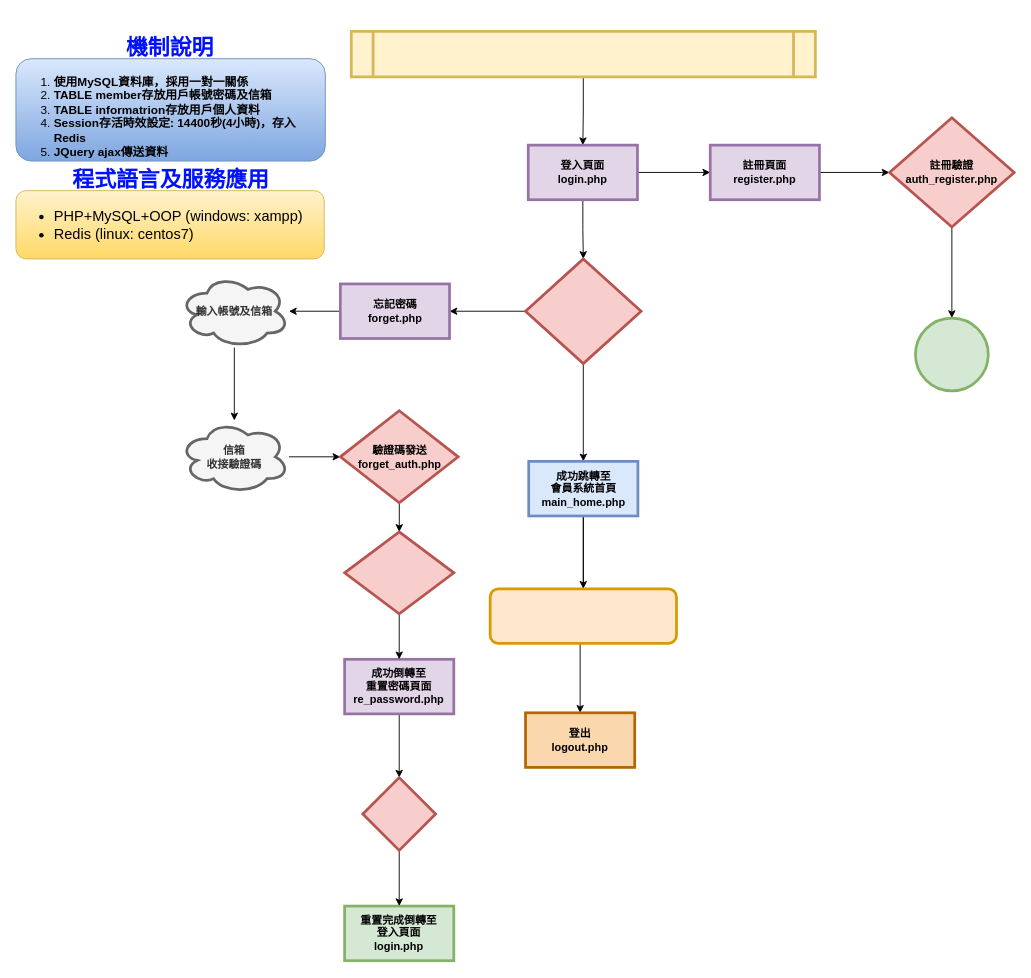
Some shapes in this 1031 by 978 pixel diagram are drawn without their labels. The shapes that lost their labels are listed below. From the top down, each one's centre as x and y in pixels, then its label:
At (582,54): "簡易會員系統".
At (583,310): "登入驗證 auth_login.php".
At (951,354): "註冊成功 返回登入頁面".
At (399,572): "驗證 code_auth.php".
At (582,615): "main_home.php => 首頁 main_personal.php => 個人資料".
At (399,813): "驗證密碼 re_password_auth.php".
